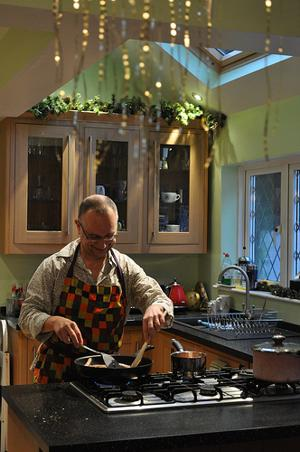person: (17, 198, 173, 389)
